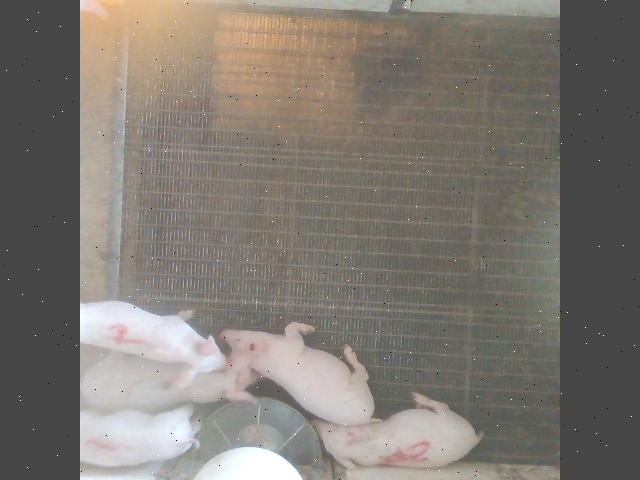pig-1: (82, 404, 199, 465)
pig-3: (81, 350, 252, 411)
pig-4: (82, 300, 225, 386)
pig-5: (313, 391, 482, 469)
